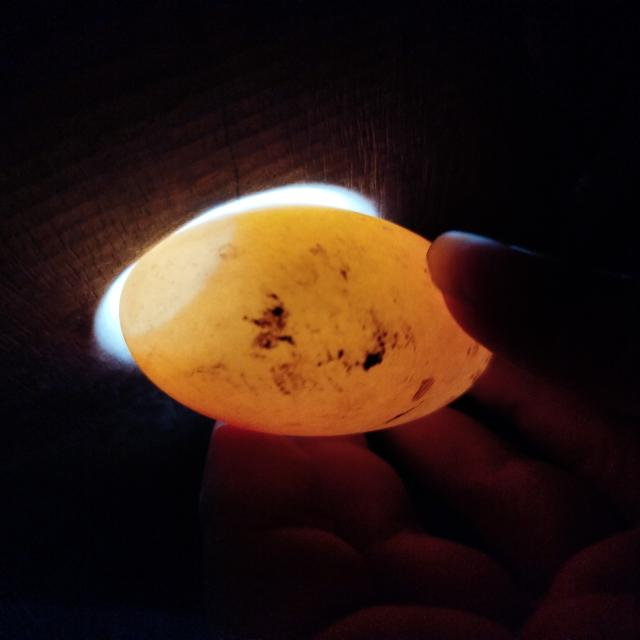Camara de Ar: (119, 217, 232, 338)
